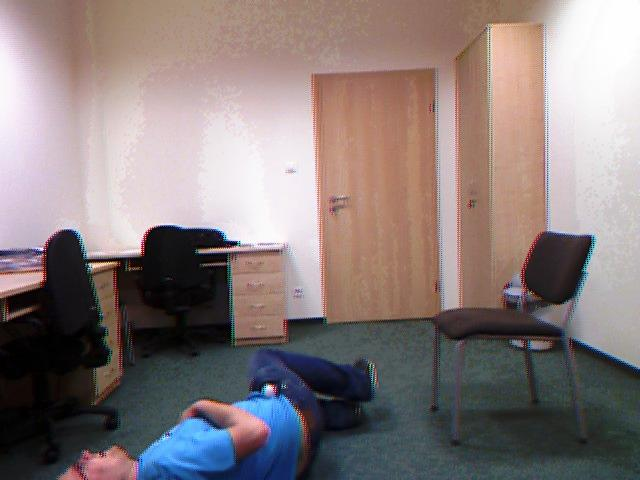fall: (58, 345, 388, 480)
